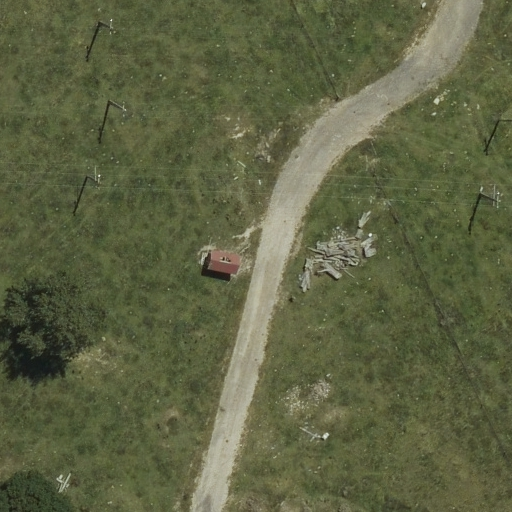DT: (465, 179, 503, 240), (84, 16, 119, 68), (73, 164, 104, 218), (96, 93, 129, 143), (482, 108, 512, 156)
